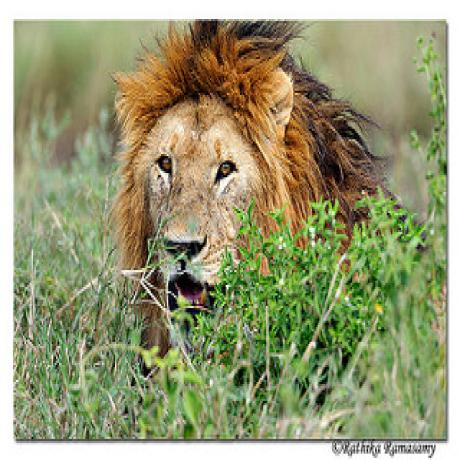Lion: (112, 18, 395, 366)
